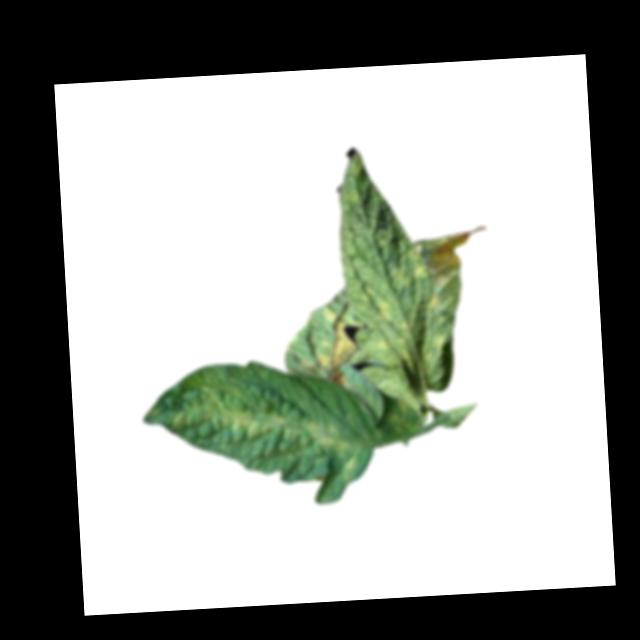Leaf_Mold: (172, 392, 345, 460), (310, 302, 360, 370), (425, 223, 485, 278), (372, 296, 416, 367), (389, 245, 428, 291), (425, 292, 441, 313)
